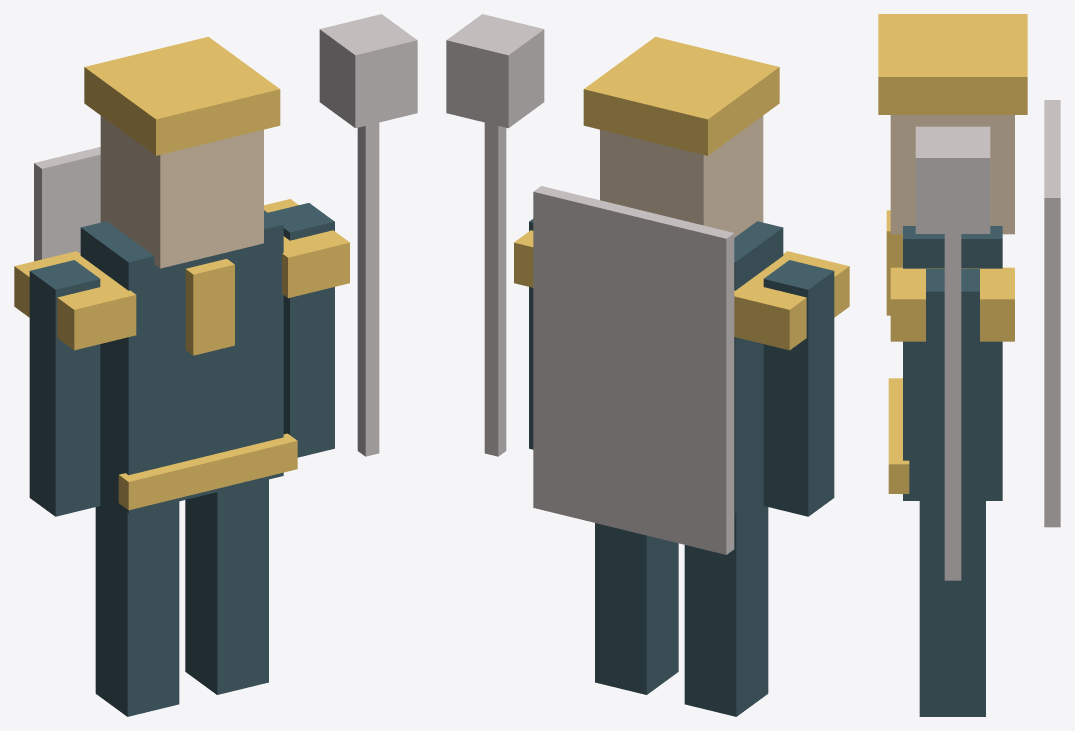
Rendered from 17_bryn_runeclasp_fixer_from.glb.
3 renders of one model, left to right at view 1: azimuth 30°, elevation 25°; view 2: azimuth 150°, elevation 25°; view 3: azimuth 270°, elevation 25°, orthographic. The views are drawn at different scales.
Visible parts, largest first — view 1: Bryn Runeclasp, Fixer from; view 2: Bryn Runeclasp, Fixer from; view 3: Bryn Runeclasp, Fixer from.
Part boxes in pixels (<box>): Bryn Runeclasp, Fixer from: <box>14,14,417,716</box>; Bryn Runeclasp, Fixer from: <box>446,14,849,716</box>; Bryn Runeclasp, Fixer from: <box>878,14,1060,716</box>.
Bounding box in the file's own units: 0.9568 × 1.56 × 0.4067.
